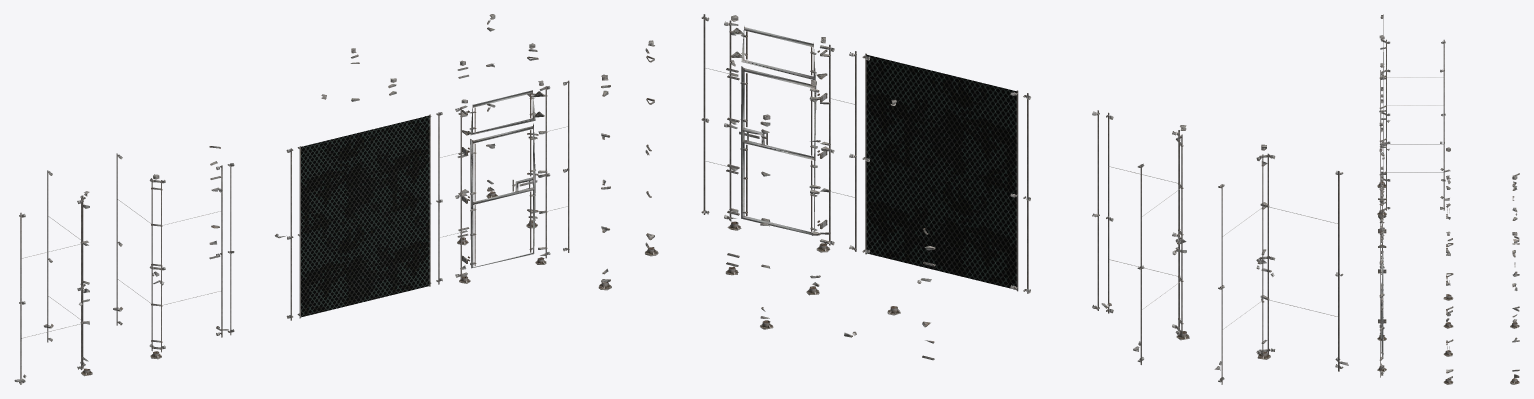
File: modular_chainlink_fence.glb
3 renders of one model, left to right at view 1: azimuth 30°, elevation 25°; view 2: azimuth 150°, elevation 25°; view 3: azimuth 270°, elevation 25°, orthographic. The views are drawn at different scales.
Parts seen in each view (by area): view 1: modular_chainlink_fence_door_gate, modular_chainlink_fence_door_latch; view 2: modular_chainlink_fence_door_gate, modular_chainlink_fence_door_latch; view 3: modular_chainlink_fence_door_latch.
Boxes of the visible parts, <box> form: modular_chainlink_fence_door_gate: <box>301,115,429,317</box>; modular_chainlink_fence_door_latch: <box>14,14,569,384</box>; modular_chainlink_fence_door_gate: <box>866,55,1016,289</box>; modular_chainlink_fence_door_latch: <box>598,14,1348,384</box>; modular_chainlink_fence_door_latch: <box>1377,14,1519,384</box>.
Size of the model in its own units: 8.11 by 2.5 by 2.15.
2 materials, 2 textured.
